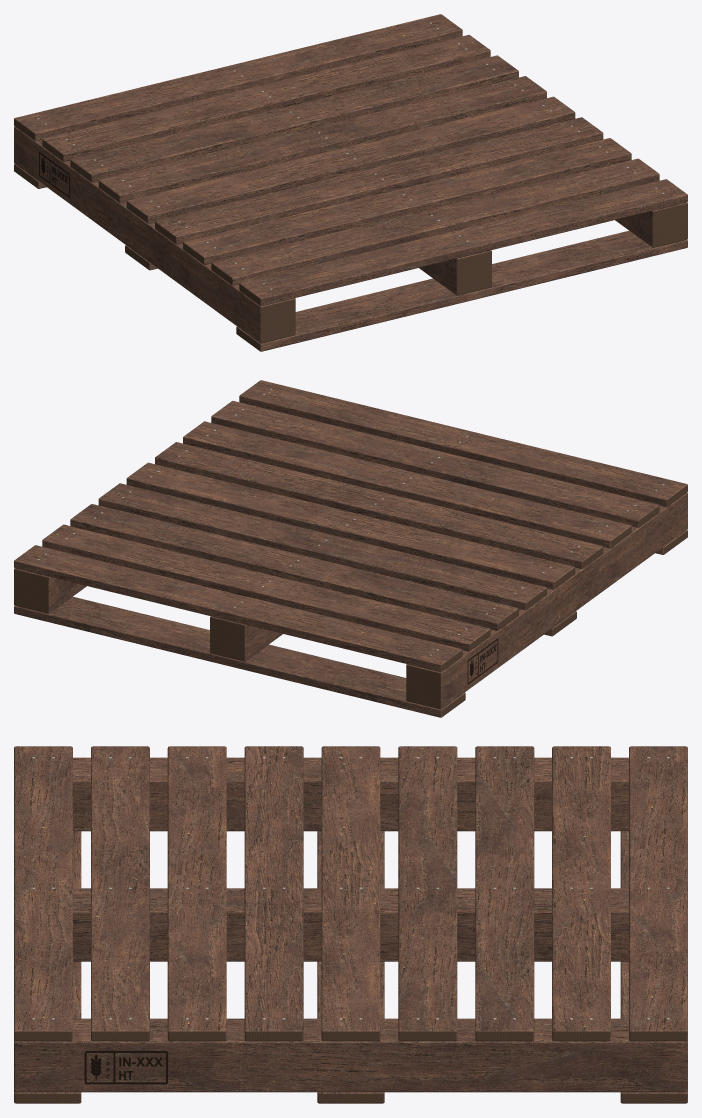
File: hw03-hardwood-pallet-1200x1200-2-way.glb
The picture shows the model from 3 angles, top to bottom: view 1: azimuth 30°, elevation 25°; view 2: azimuth 150°, elevation 25°; view 3: azimuth 270°, elevation 25°; orthographic projection. The views are drawn at different scales.
Parts seen in each view (by area): view 1: hw03-hardwood-pallet-1200x1200-2-way; view 2: hw03-hardwood-pallet-1200x1200-2-way; view 3: hw03-hardwood-pallet-1200x1200-2-way.
Part boxes in pixels (bbox=[...]): hw03-hardwood-pallet-1200x1200-2-way: bbox=[14, 14, 687, 351]; hw03-hardwood-pallet-1200x1200-2-way: bbox=[14, 380, 687, 717]; hw03-hardwood-pallet-1200x1200-2-way: bbox=[14, 746, 687, 1103].
Bounding box in the file's own units: 1.2 × 0.1449 × 1.2.
Materials: 4 (3 with a texture image).
